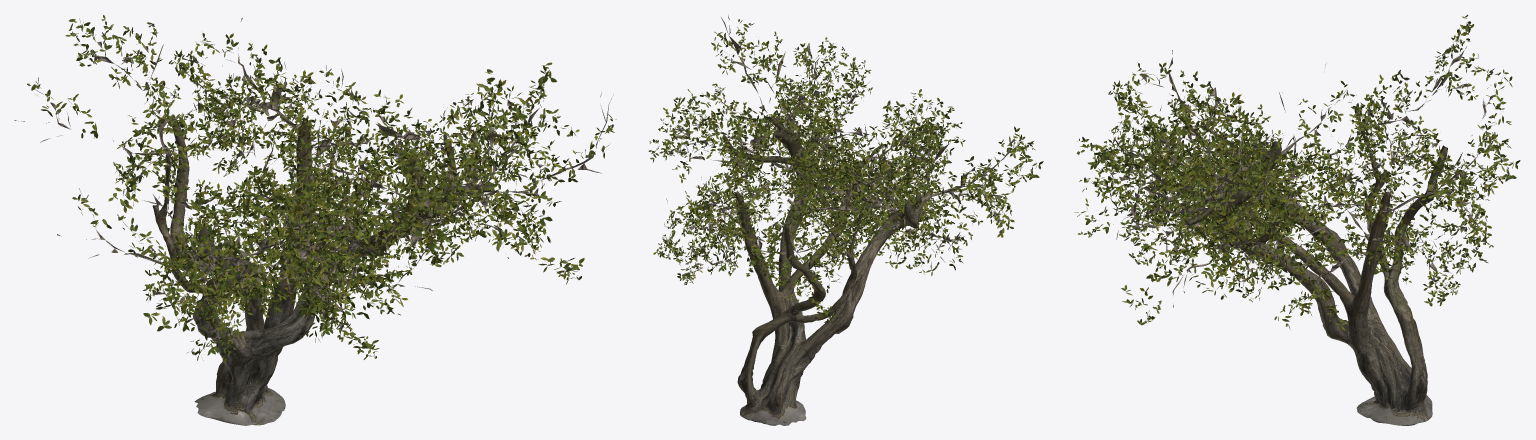
Rendered from tree_hero.glb.
The picture shows the model from 3 angles, left to right: view 1: azimuth 30°, elevation 25°; view 2: azimuth 150°, elevation 25°; view 3: azimuth 270°, elevation 25°; orthographic projection. The views are drawn at different scales.
Parts seen in each view (by area): view 1: island_tree_02_LOD0; view 2: island_tree_02_LOD0; view 3: island_tree_02_LOD0.
Boxes of the visible parts, box(x1,y1,x2,y2) form: island_tree_02_LOD0: box(14, 15, 616, 425); island_tree_02_LOD0: box(648, 14, 1043, 425); island_tree_02_LOD0: box(1074, 14, 1520, 425).
Bounding box in the file's own units: 4.02 × 3.39 × 4.07.
3 materials, 3 textured.
